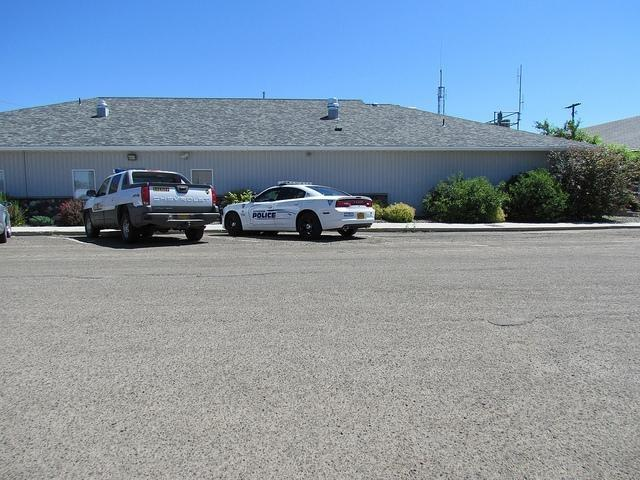car: (222, 183, 376, 239), (0, 202, 14, 244)
truck: (80, 164, 220, 243)
